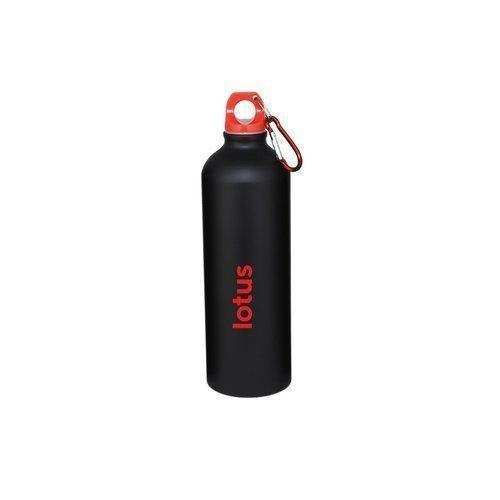gym bottle: (199, 88, 303, 399)
